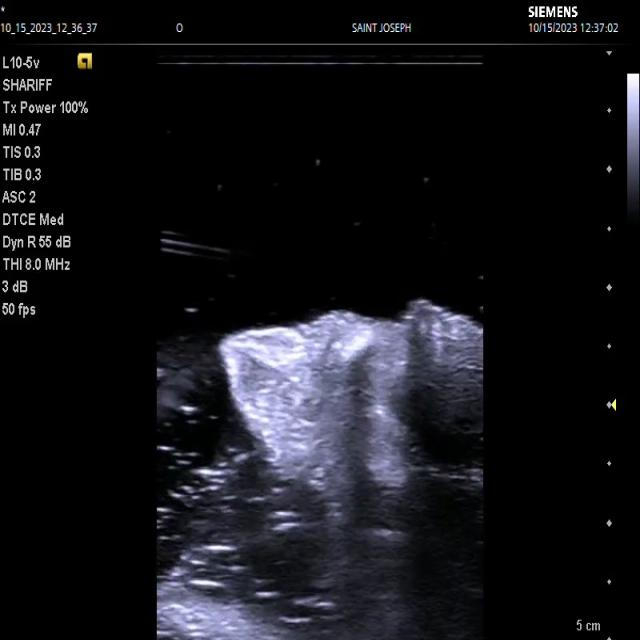tissue: (218, 303, 482, 640)
